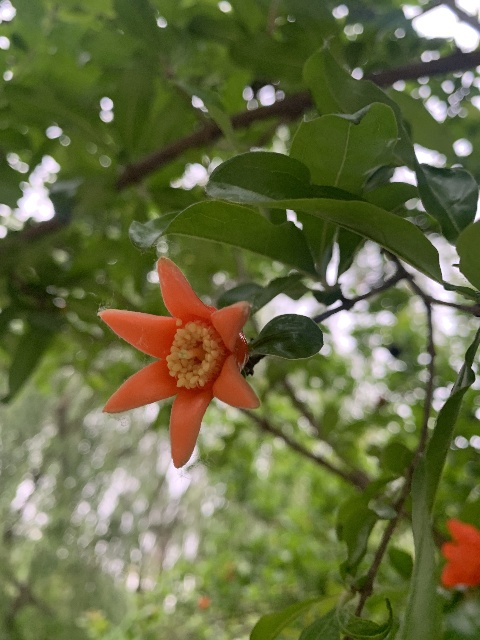flower: (98, 256, 259, 467), (440, 519, 480, 590)
